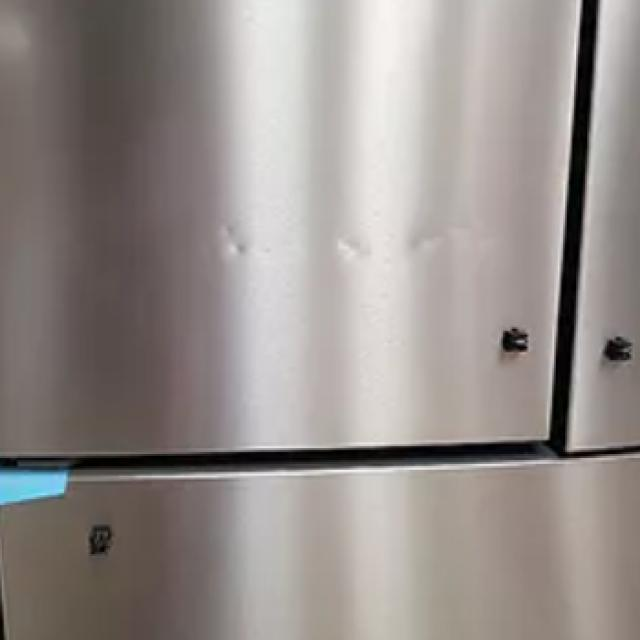dents: (322, 210, 383, 306), (206, 218, 270, 290), (405, 201, 441, 300)
